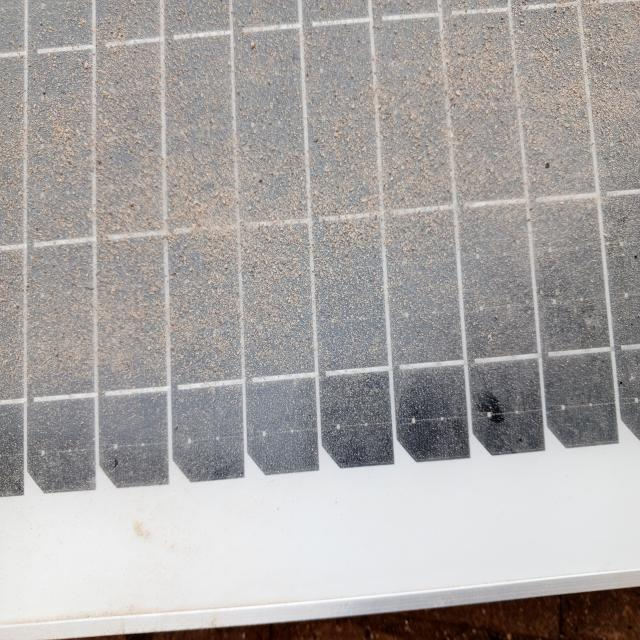Surface Contaminant: (60, 142, 633, 455)
